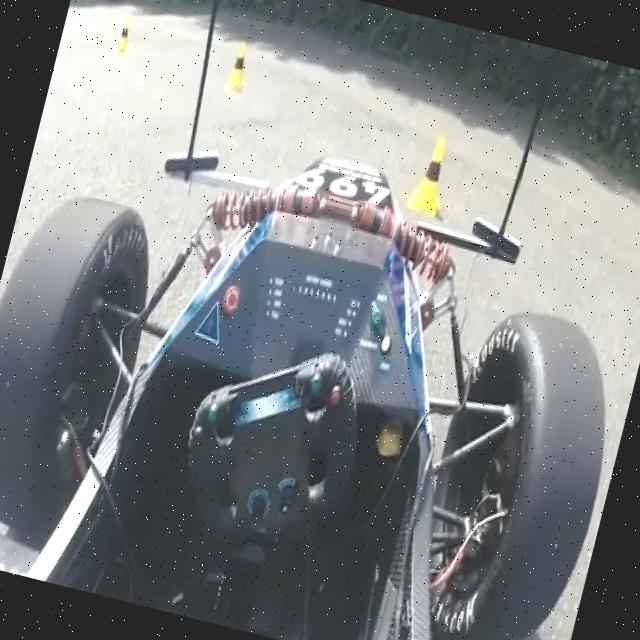yellow_cone: (402, 129, 458, 218), (223, 40, 255, 96), (112, 18, 134, 58)
